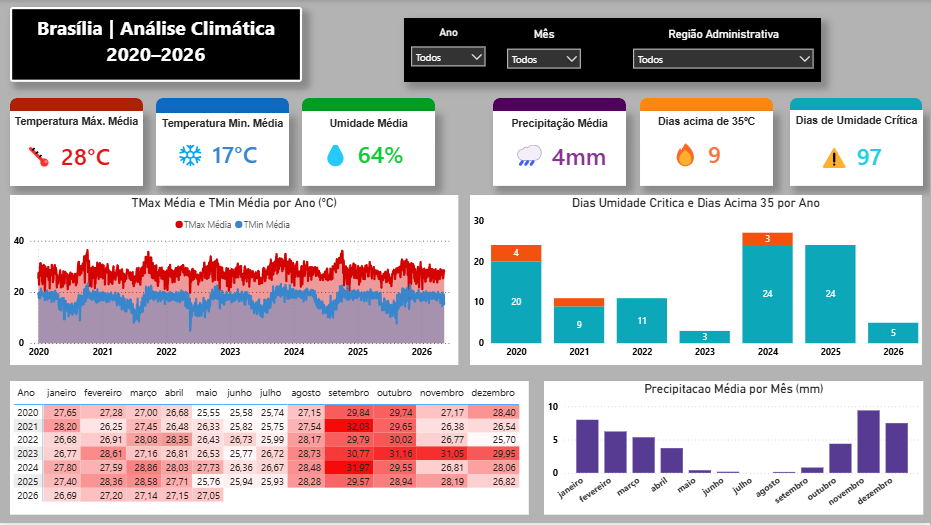

This screenshot's page, from the dashboard's own definition file:
{"tool":"powerbi","page":{"name":"Página 1","canvas":[1280,720],"ordinal":0},"visuals":[{"type":"textbox","box":[14.3,10,401.9,103],"z":0},{"type":"shape","box":[556,24.8,573.9,88.1],"z":1000},{"type":"shape","box":[13.8,134.9,183.1,35.8],"z":2000},{"type":"shape","box":[214.7,134.9,183.1,35.8],"z":3000},{"type":"shape","box":[415.7,134.9,183.1,35.8],"z":4000},{"type":"shape","box":[678.5,134.9,183.1,35.8],"z":5000},{"type":"shape","box":[880.9,134.9,183.1,35.8],"z":6000},{"type":"shape","box":[1087.3,134.9,181.7,35.8],"z":7000},{"type":"shape","box":[1087.3,152.8,183.1,103.2],"z":8000},{"type":"shape","box":[880.9,152.8,183.1,103.2],"z":9000},{"type":"shape","box":[13.8,152.8,183.1,103.2],"z":10000},{"type":"shape","box":[214.7,155.5,183.1,100.5],"z":11000},{"type":"shape","box":[415.7,152.8,183.1,103.2],"z":12000},{"type":"shape","box":[678.5,152.8,183.1,103.2],"z":13000},{"type":"cardVisual","fields":{"Data":["Tabela.Teste Label"]},"box":[0,173.4,183.1,78.5],"z":14000},{"type":"cardVisual","fields":{"Data":["Tabela.TMin Label"]},"box":[196.8,170.7,200.9,78.5],"z":15000},{"type":"cardVisual","fields":{"Data":["Tabela.Umidade Label"]},"box":[397.8,170.7,200.9,78.5],"z":16000},{"type":"cardVisual","fields":{"Data":["Tabela.Precip Label"]},"box":[671.7,173.4,198.2,78.5],"z":17000},{"type":"cardVisual","fields":{"Data":["Tabela.Calor Label"]},"box":[856.1,170.7,202.3,78.5],"z":18000},{"type":"cardVisual","fields":{"Data":["Tabela.Seca Label"]},"box":[1072.2,173.4,196.8,78.5],"z":19000},{"type":"textbox","box":[13.8,152.8,183.1,44],"z":20000},{"type":"textbox","box":[214.7,155.5,183.1,44],"z":21000},{"type":"textbox","box":[415.7,155.5,183.1,44],"z":22000},{"type":"textbox","box":[678.5,155.5,183.1,44],"z":23000},{"type":"textbox","box":[1087.3,151.4,183.1,44],"z":24000},{"type":"textbox","box":[880.9,152.8,183.1,44],"z":25000},{"type":"lineChart","title":"TMax Média e TMin Média por Ano (ºC)","fields":{"Y":["Tabela.TMax Média","Tabela.TMin Média"],"Category":["Tabela.Data.Variation.Hierarquia de datas.Ano","Tabela.Data.Variation.Hierarquia de datas.Trimestre","Tabela.Data.Variation.Hierarquia de datas.Mês","Tabela.Data.Variation.Hierarquia de datas.Dia"]},"box":[13.8,268.4,616.6,234],"z":26000},{"type":"lineStackedColumnComboChart","title":"Precipitacao Média por Mês (mm)","fields":{"Category":["Tabela.Data.Variation.Hierarquia de datas.Mês"],"Y":["Tabela.Precipitacao Média"]},"box":[748.7,524.4,521.6,184.4],"z":27000},{"type":"pivotTable","fields":{"Rows":["Tabela.Data.Variation.Hierarquia de datas.Ano"],"Columns":["Tabela.Data.Variation.Hierarquia de datas.Mês"],"Values":["Tabela.TMax Média"]},"box":[13.8,524.4,714.3,184.4],"z":28000},{"type":"columnChart","fields":{"Category":["Tabela.Data.Variation.Hierarquia de datas.Ano"],"Y":["Tabela.Dias Umidade Critica","Tabela.Dias Acima 35"]},"box":[646.9,268.4,622.1,234],"z":29000},{"type":"slicer","title":"Ano","fields":{"Values":["Tabela.Data.Variation.Hierarquia de datas.Ano"]},"box":[556,37.2,122.5,63.3],"z":30000},{"type":"slicer","title":"Região Administrativa","fields":{"Values":["Tabela.Alerta Calor"]},"box":[861.6,37.2,268.4,63.3],"z":31000},{"type":"slicer","title":"Mês","fields":{"Values":["Tabela.Data.Variation.Hierarquia de datas.Mês"]},"box":[688.2,37.2,121.1,63.3],"z":32000}]}

Visuals, with their boxes in screenshot pixels (x1, y1, x2, y2), scaled from the page's 1280x720 canvas onto the 931x525 screenshot:
textbox: 10 7 303 82
shape: 404 18 822 82
shape: 10 98 143 124
shape: 156 98 289 124
shape: 302 98 436 124
shape: 494 98 627 124
shape: 641 98 774 124
shape: 791 98 923 124
shape: 791 111 924 187
shape: 641 111 774 187
shape: 10 111 143 187
shape: 156 113 289 187
shape: 302 111 436 187
shape: 494 111 627 187
cardVisual - Tabela.Teste Label: 0 126 133 184
cardVisual - Tabela.TMin Label: 143 124 289 182
cardVisual - Tabela.Umidade Label: 289 124 435 182
cardVisual - Tabela.Precip Label: 489 126 633 184
cardVisual - Tabela.Calor Label: 623 124 770 182
cardVisual - Tabela.Seca Label: 780 126 923 184
textbox: 10 111 143 144
textbox: 156 113 289 145
textbox: 302 113 436 145
textbox: 494 113 627 145
textbox: 791 110 924 142
textbox: 641 111 774 144
"TMax Média e TMin Média por Ano (ºC)" lineChart: 10 196 459 366
"Precipitacao Média por Mês (mm)" lineStackedColumnComboChart: 545 382 924 517
pivotTable - Tabela.Data.Variation.Hierarquia de datas.Ano x Tabela.Data.Variation.Hierarquia de datas.Mês: 10 382 530 517
columnChart - Tabela.Data.Variation.Hierarquia de datas.Ano x Tabela.Dias Umidade Critica: 471 196 923 366
"Ano" slicer: 404 27 494 73
"Região Administrativa" slicer: 627 27 822 73
"Mês" slicer: 501 27 589 73
